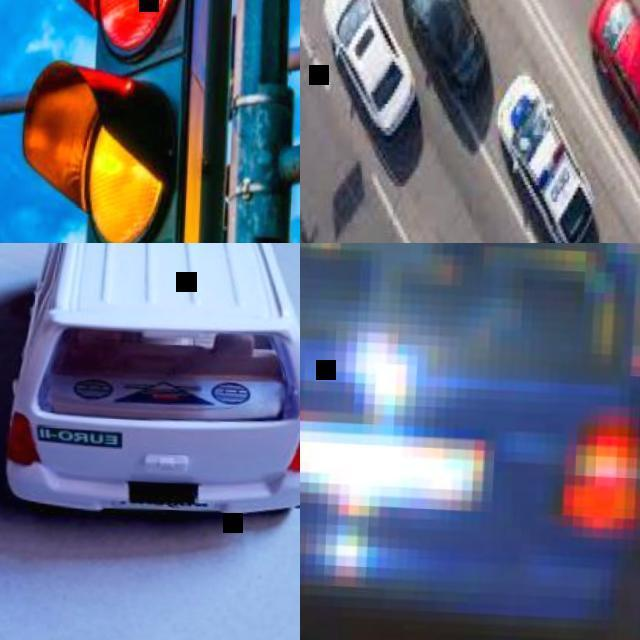car: (2, 247, 302, 522), (587, 2, 639, 147)
